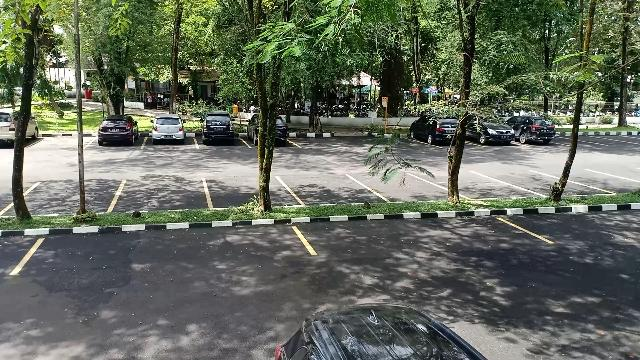empty: (29, 228, 308, 270), (301, 217, 525, 255), (25, 180, 117, 217), (118, 178, 208, 214), (208, 178, 292, 210), (294, 175, 371, 209), (372, 172, 450, 202), (458, 169, 520, 200), (518, 170, 578, 196), (31, 128, 91, 152)
occupied: (468, 118, 518, 148), (408, 119, 458, 149), (197, 119, 246, 149), (144, 122, 196, 148), (90, 125, 142, 149)
